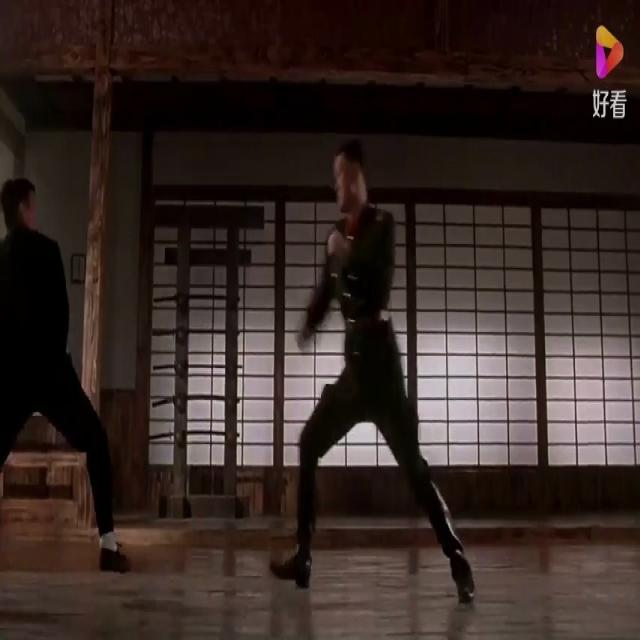fight: (0, 143, 465, 613)
